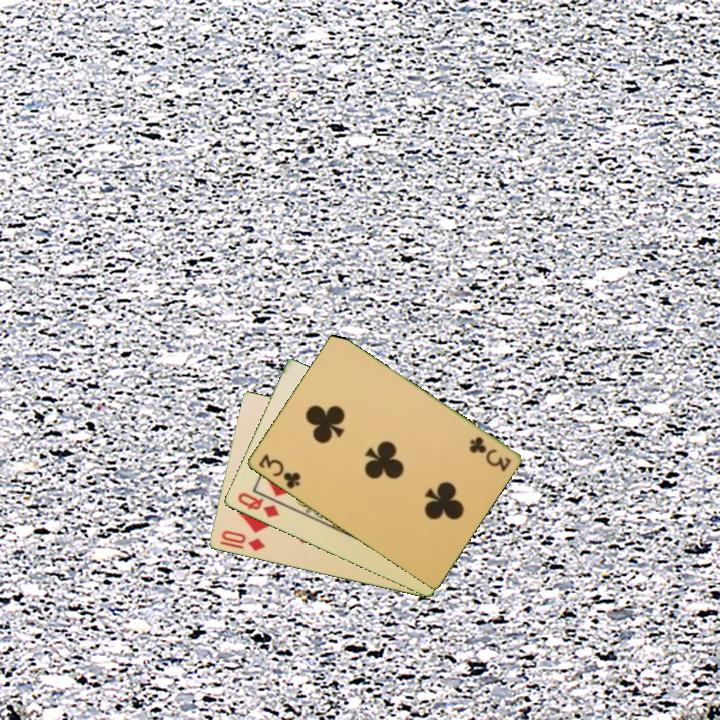10d: (217, 527, 268, 554)
3c: (254, 450, 303, 492), (465, 433, 514, 474)
Qd: (234, 489, 282, 521)
